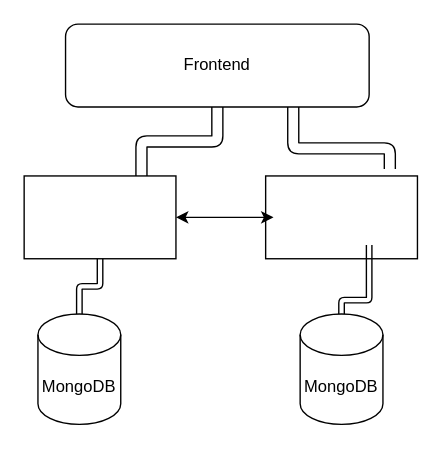
This 442x449 diagram has some shape labels left out. The shapes that lost their labels are listed below. From the top down, each one's centre as x and y in pixels, then its label:
At point (99, 217): "User Server".
At point (340, 217): "UserTask Server".
